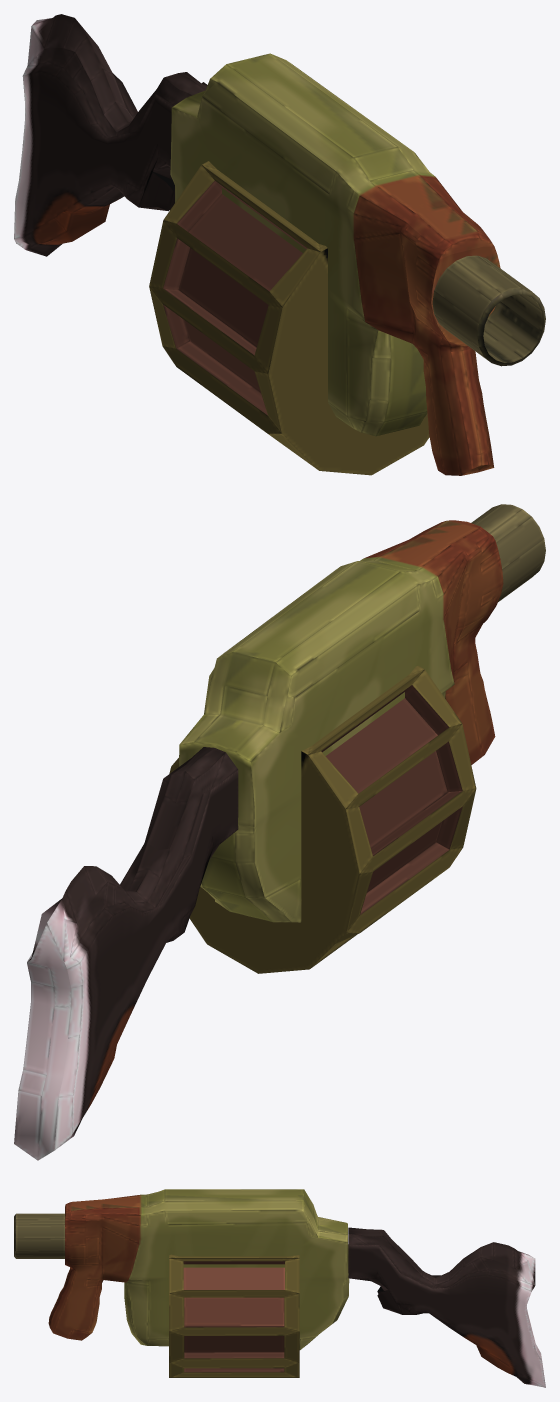
File: Granade.Luncher.fbx
3 renders of one model, top to bottom at view 1: azimuth 30°, elevation 25°; view 2: azimuth 150°, elevation 25°; view 3: azimuth 270°, elevation 25°, orthographic. The views are drawn at different scales.
Parts seen in each view (by area): view 1: pCylinder3; view 2: pCylinder3; view 3: pCylinder3.
Part boxes in pixels (box(x1,y1,x2,y2)): pCylinder3: box(14, 14, 545, 475); pCylinder3: box(14, 504, 545, 1160); pCylinder3: box(14, 1189, 545, 1387).
Bounding box in the file's own units: 42.09 × 68.57 × 172.
Materials: 1 (1 with a texture image).
